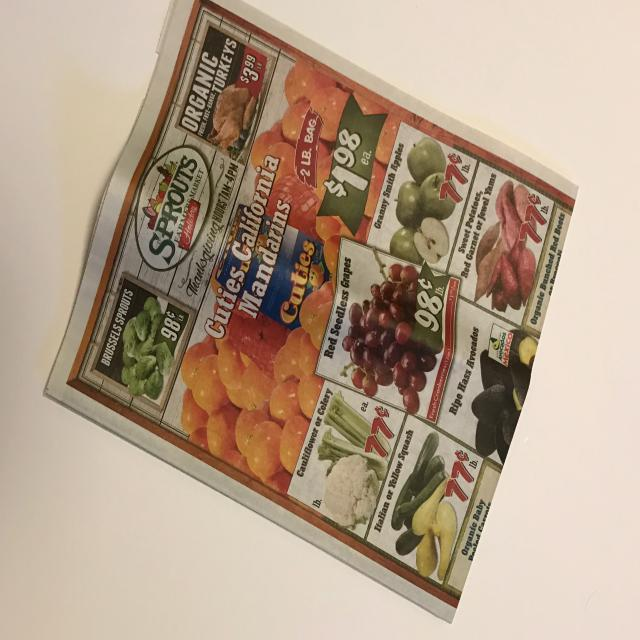paper: (42, 1, 580, 623)
